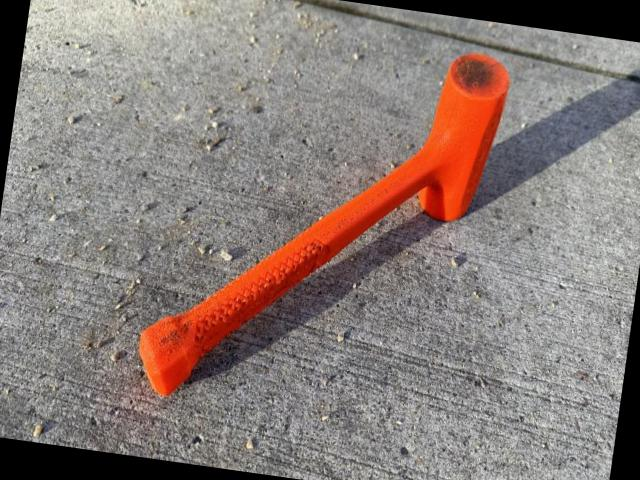hammer: (128, 9, 516, 440)
